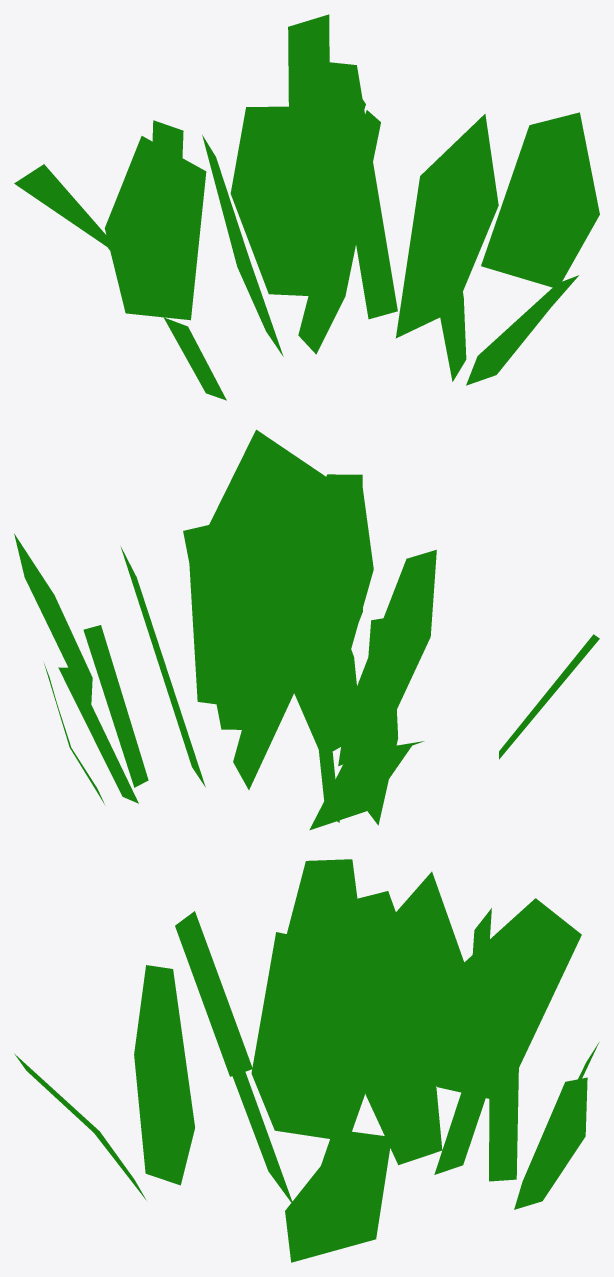
Rendered from Magnus_2.fbx.
3 renders of one model, top to bottom at view 1: azimuth 30°, elevation 25°; view 2: azimuth 150°, elevation 25°; view 3: azimuth 270°, elevation 25°, orthographic. The views are drawn at different scales.
Visible parts, largest first — view 1: Magnus_2; view 2: Magnus_2; view 3: Magnus_2.
Boxes of the visible parts, box(x1,y1,x2,y2) form: Magnus_2: box(14, 14, 599, 400); Magnus_2: box(14, 429, 599, 830); Magnus_2: box(14, 859, 599, 1262).
Size of the model in its own units: 134 by 63.19 by 129.
